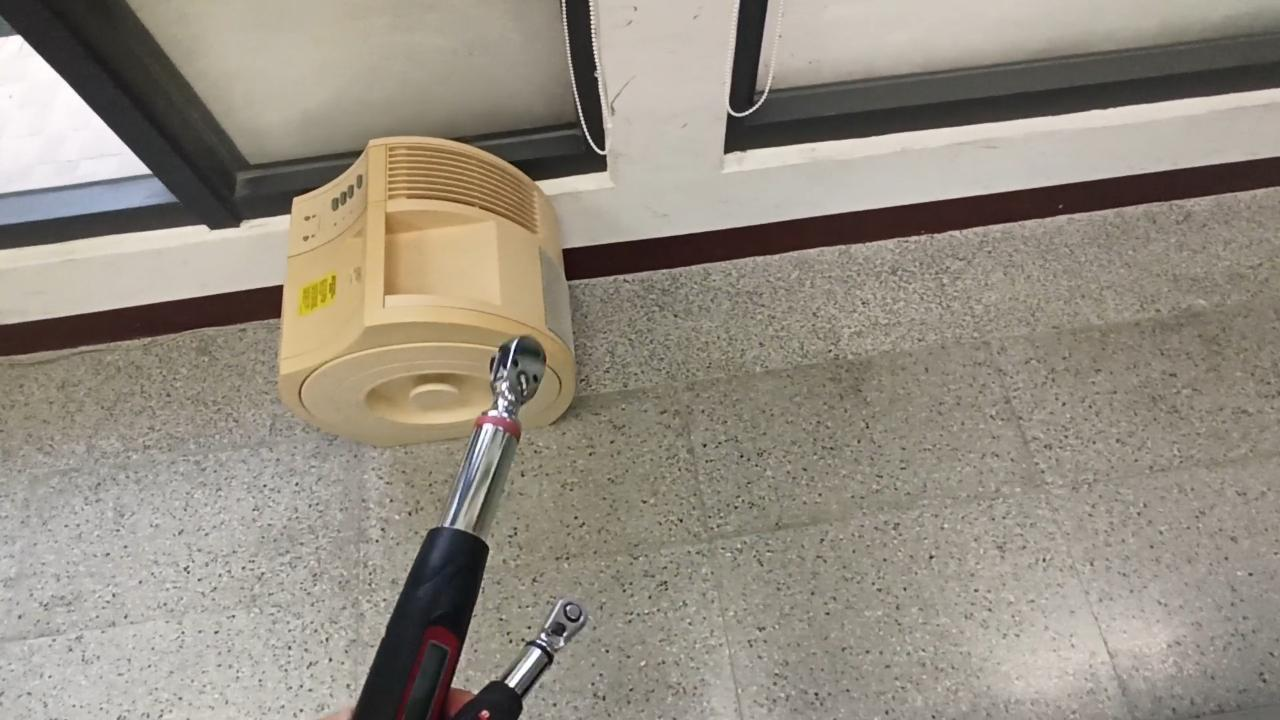Tool: (542, 596, 588, 650)
